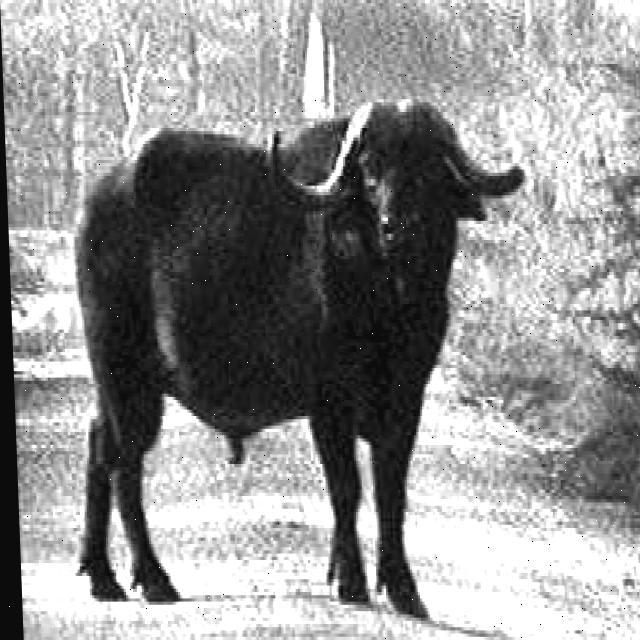Buffalo: (58, 96, 541, 621)
